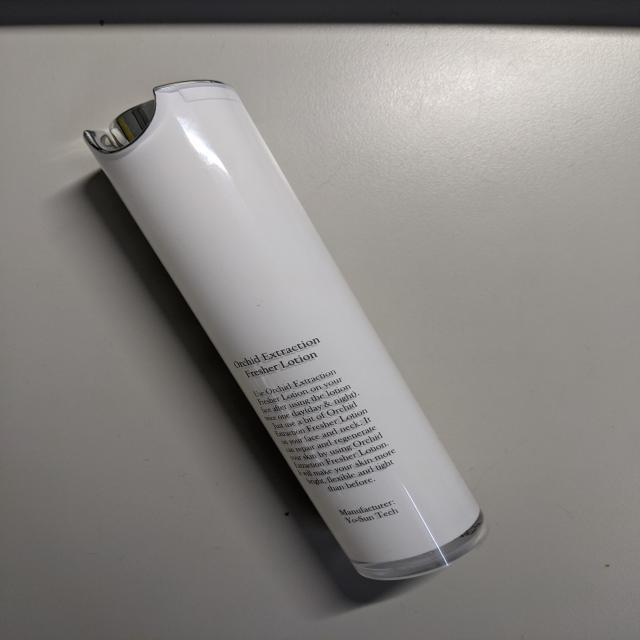Plastic: (79, 78, 487, 583)
